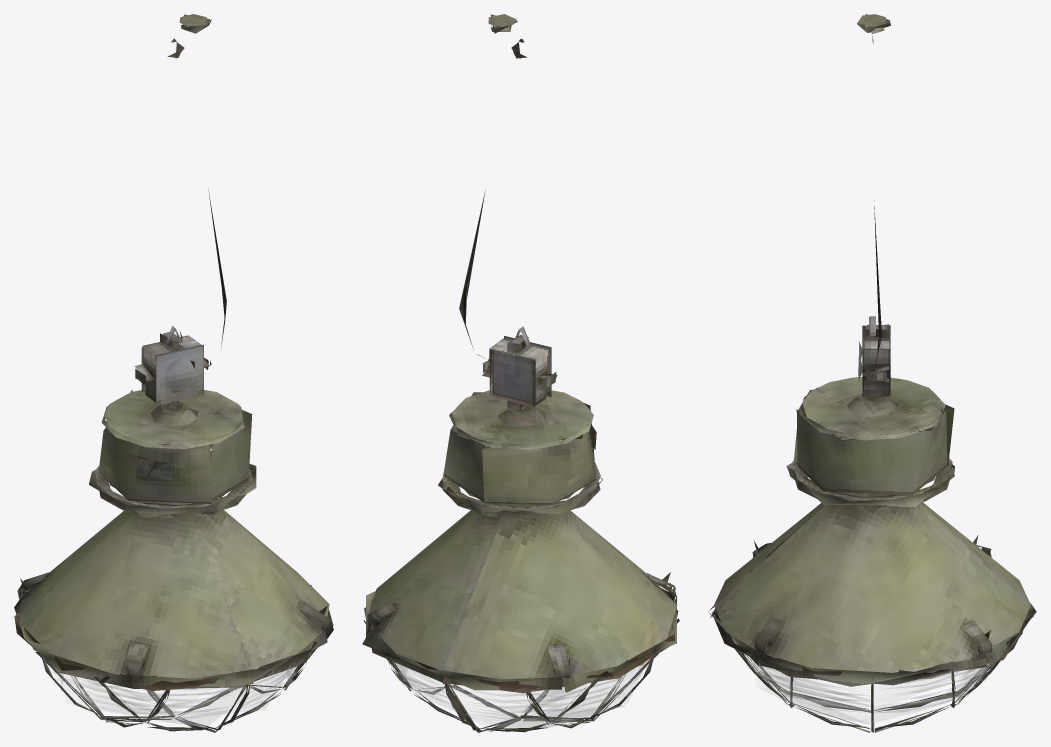
The model's file is hanging_industrial_lamp.glb.
3 renders of one model, left to right at view 1: azimuth 30°, elevation 25°; view 2: azimuth 150°, elevation 25°; view 3: azimuth 270°, elevation 25°, orthographic.
Parts seen in each view (by area): view 1: hanging_industrial_lamp; view 2: hanging_industrial_lamp; view 3: hanging_industrial_lamp.
Boxes of the visible parts, box(x1,y1,x2,y2) form: hanging_industrial_lamp: box(14, 14, 333, 732); hanging_industrial_lamp: box(362, 14, 679, 732); hanging_industrial_lamp: box(708, 14, 1036, 732).
Size of the model in its own units: 0.5632 by 1.34 by 0.5694.
2 materials, 1 textured.
